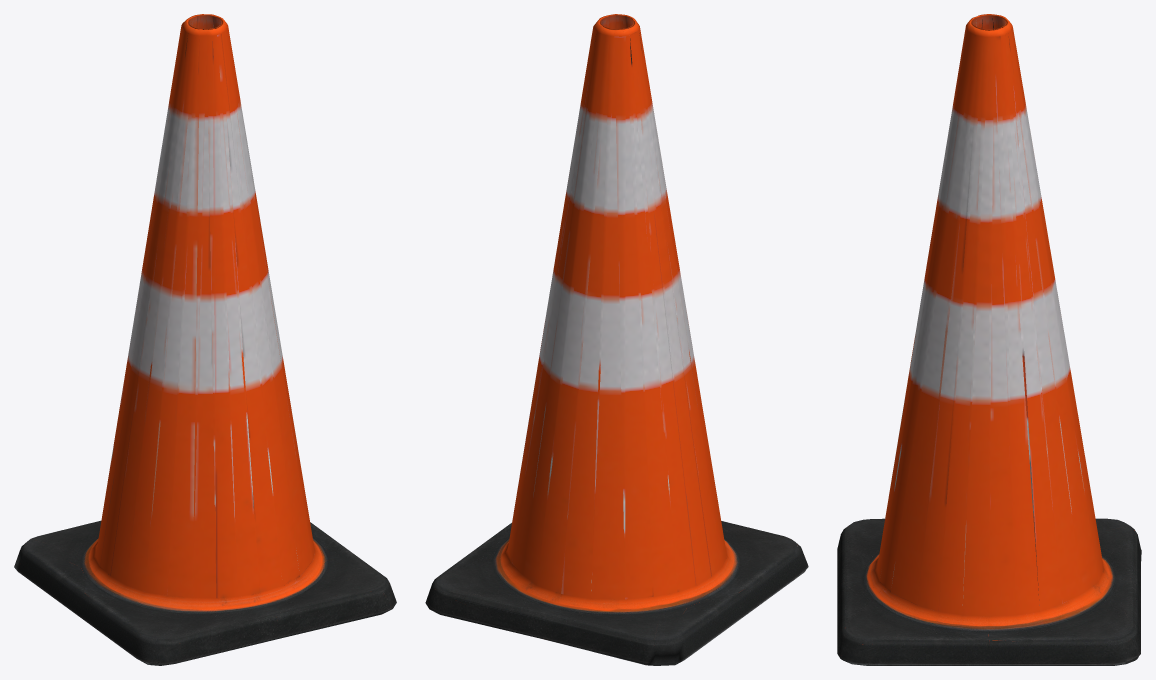
The picture shows the model from 3 angles, left to right: view 1: azimuth 30°, elevation 25°; view 2: azimuth 150°, elevation 25°; view 3: azimuth 270°, elevation 25°; orthographic projection. The views are drawn at different scales.
Size of the model in its own units: 0.4517 by 0.9521 by 0.4526.
1 material, 1 textured.
